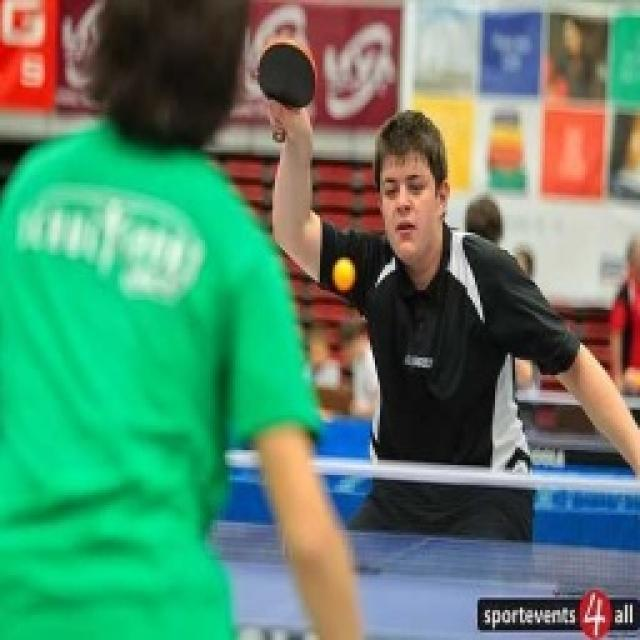oball: (331, 254, 356, 290)
